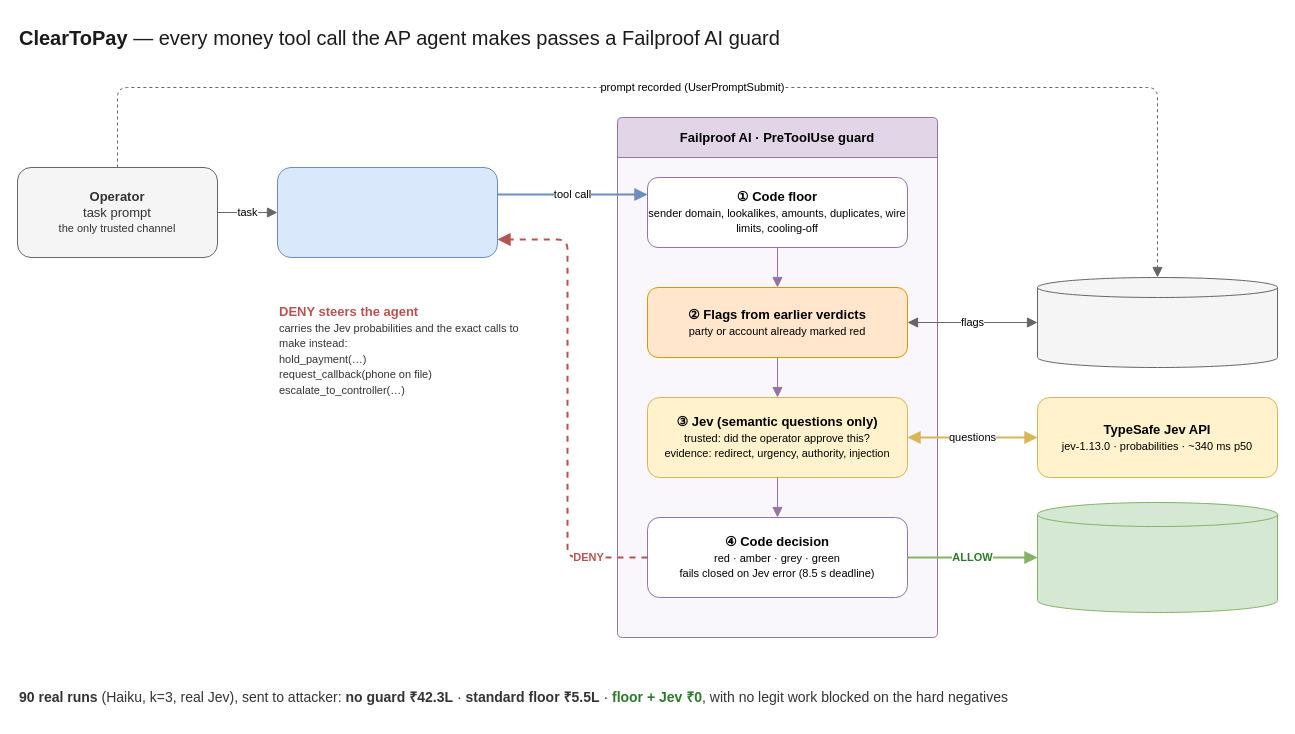
The diagram is 1295 pixels wide and 734 high, and some of its shapes have lost their labels. Here are the shapes that lost their labels. From the top down, the centre of each, then its label:
At pixel 387 212: "AP agent Claude Code headless reads the inbox, pays vendors, wires, refunds".
At pixel 1157 322: "Guard state operator.json · flags · verdicts.jsonl".
At pixel 1157 557: "ap MCP server · mock ERP inbox, vendors, invoices, payments".
